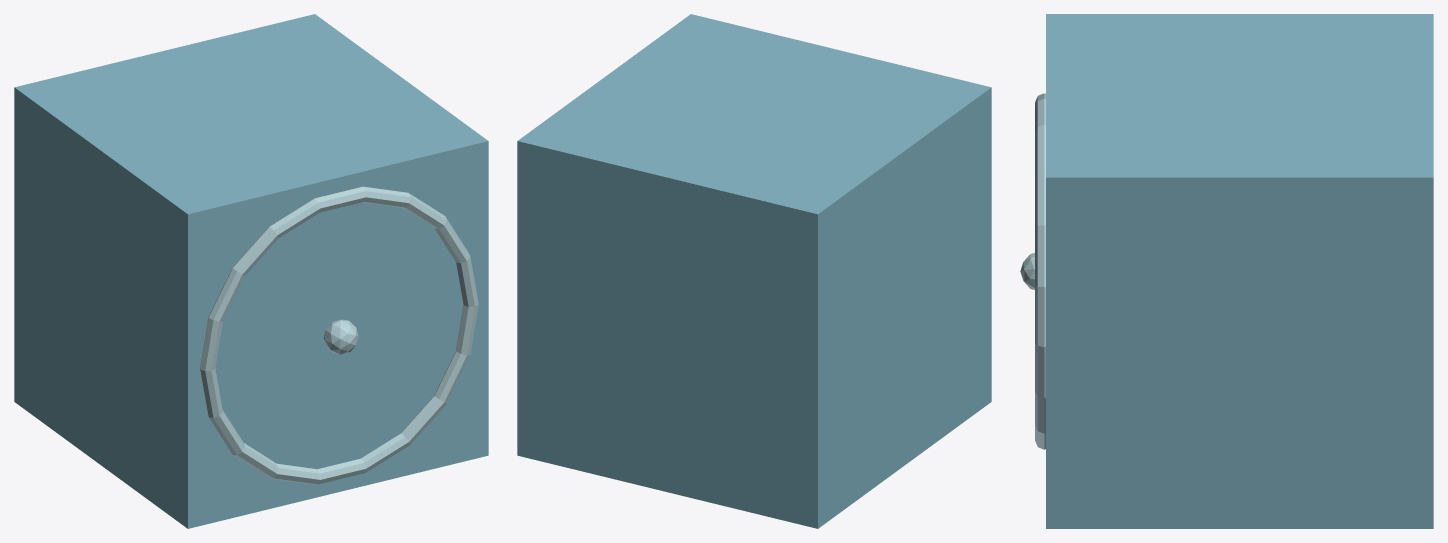
File: regeneration.glb
The picture shows the model from 3 angles, left to right: view 1: azimuth 30°, elevation 25°; view 2: azimuth 150°, elevation 25°; view 3: azimuth 270°, elevation 25°; orthographic projection. The views are drawn at different scales.
Parts seen in each view (by area): view 1: world; view 2: world; view 3: world.
Part boxes in pixels (<box>): world: <box>14,14,488,528</box>; world: <box>517,14,991,528</box>; world: <box>1020,14,1433,528</box>.
Size of the model in its own units: 1.05 by 1.05 by 1.12.
